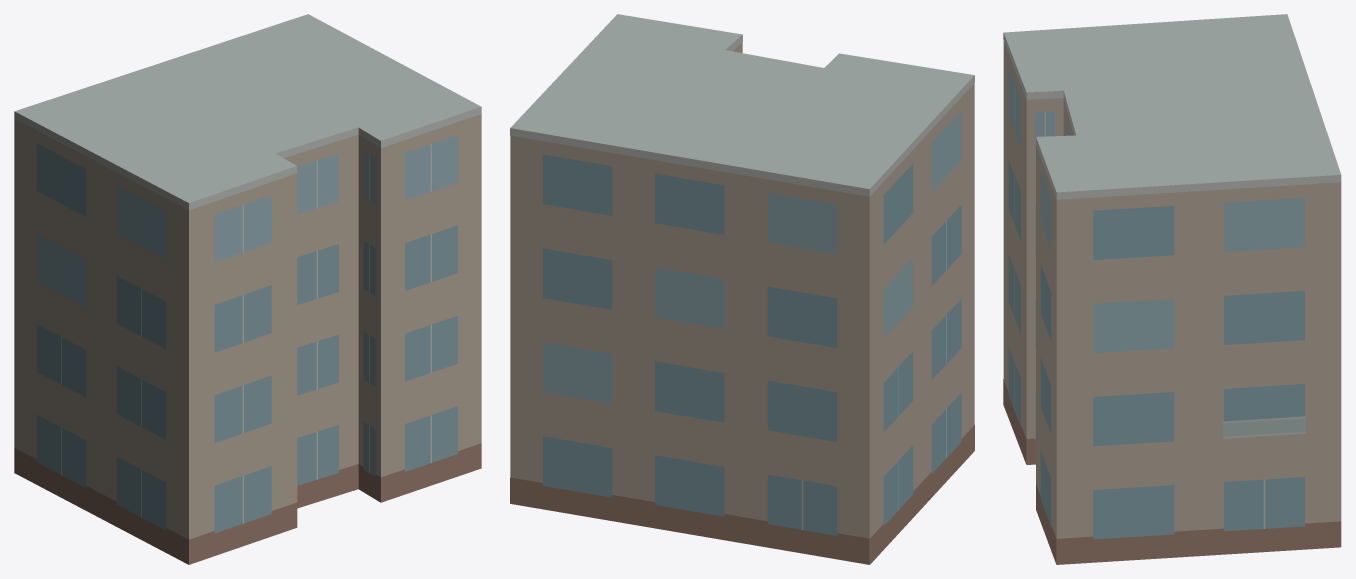
Rendered from survey-upis-33028909.glb.
3 renders of one model, left to right at view 1: azimuth 30°, elevation 25°; view 2: azimuth 150°, elevation 25°; view 3: azimuth 270°, elevation 25°, orthographic. The views are drawn at different scales.
Parts seen in each view (by area): view 1: survey-upis-33028909.tmp; view 2: survey-upis-33028909.tmp; view 3: survey-upis-33028909.tmp.
Part boxes in pixels (x1,y1,x2,y2): survey-upis-33028909.tmp: (14, 14, 481, 564); survey-upis-33028909.tmp: (510, 14, 974, 564); survey-upis-33028909.tmp: (1003, 14, 1341, 564).
Size of the model in its own units: 12.54 by 12.2 by 10.04.
